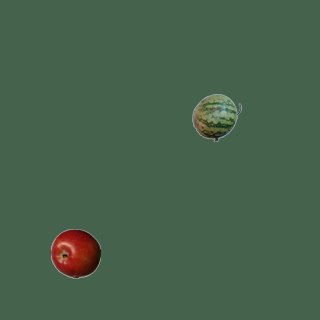Apple Braeburn: (50, 228, 100, 278)
Watermelon: (191, 92, 241, 142)
